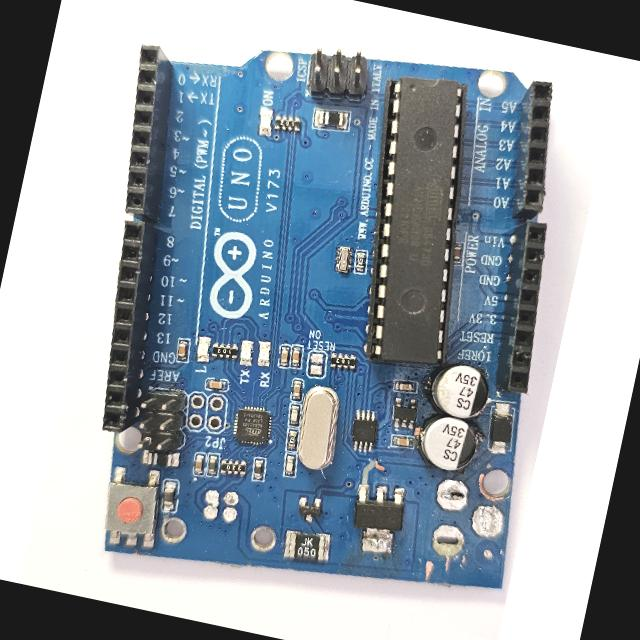missing_eps: (413, 471, 489, 577)
missing_usb: (177, 483, 286, 560)
